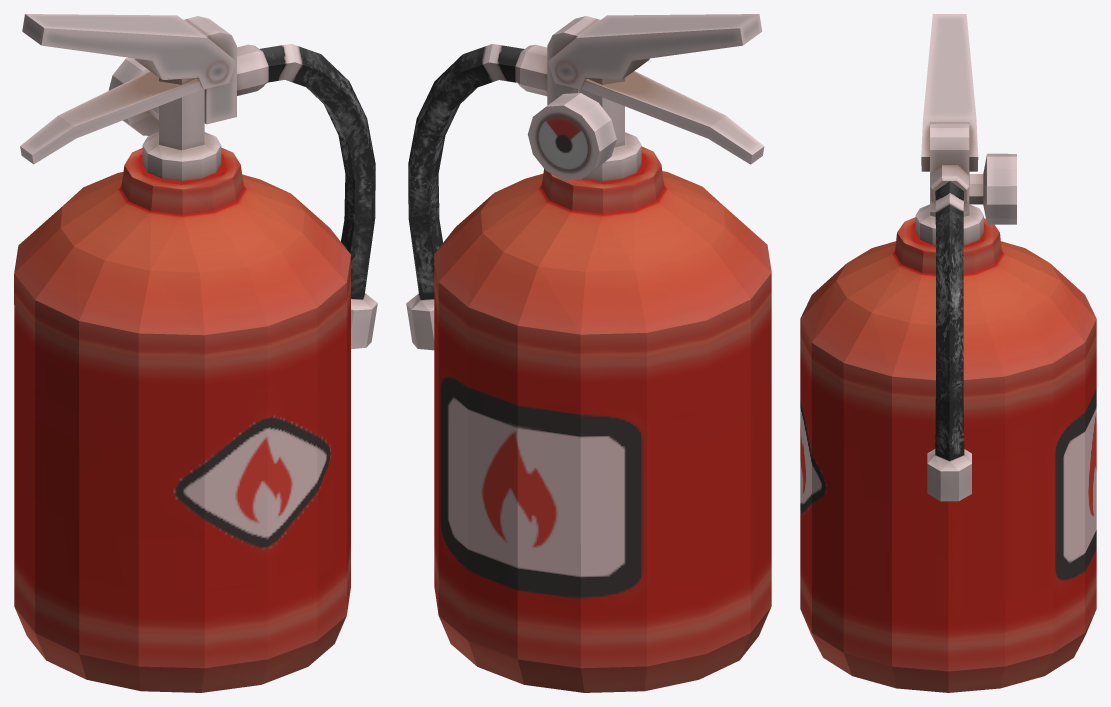
The model's file is P_Extinguisher_001_S1_M01.obj.
The picture shows the model from 3 angles, left to right: view 1: azimuth 30°, elevation 25°; view 2: azimuth 150°, elevation 25°; view 3: azimuth 270°, elevation 25°; orthographic projection. The views are drawn at different scales.
Bounding box in the file's own units: 0.4346 × 0.7619 × 0.3666.
1 material, 1 textured.
